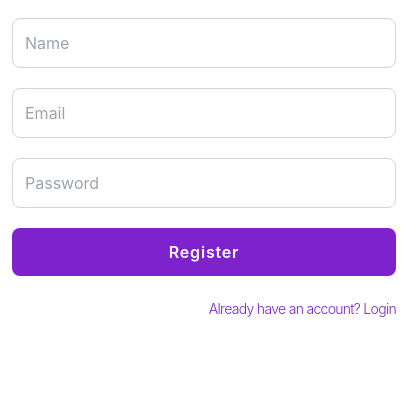
Test: RegisterForm › shows validation errors when submitting empty form
The width and height of the screenshot is (415, 418).
Click the button "Register" at (204, 252), box [12,228,396,276]
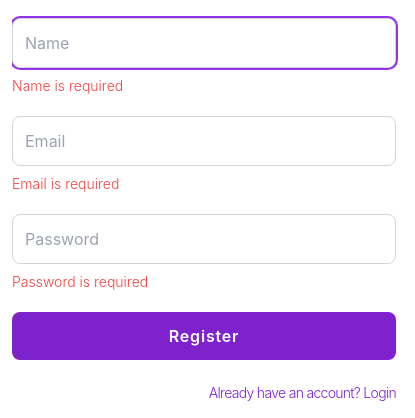
Now the text "Name is required" is shown, box [12,77,123,94]
